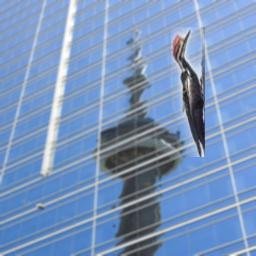Woodpecker: (171, 27, 205, 157)
